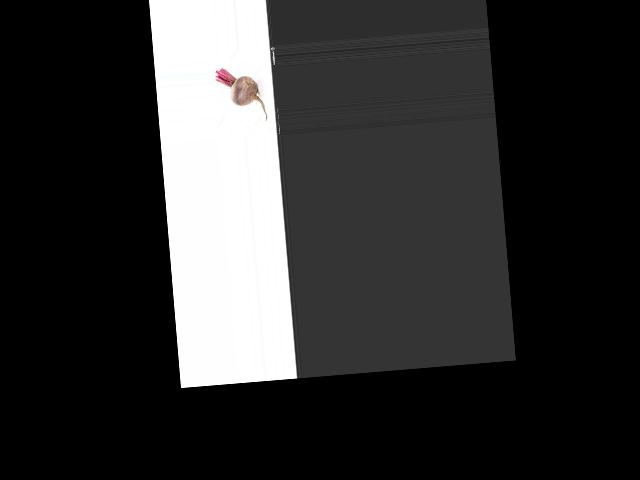beet: (215, 65, 267, 125)
